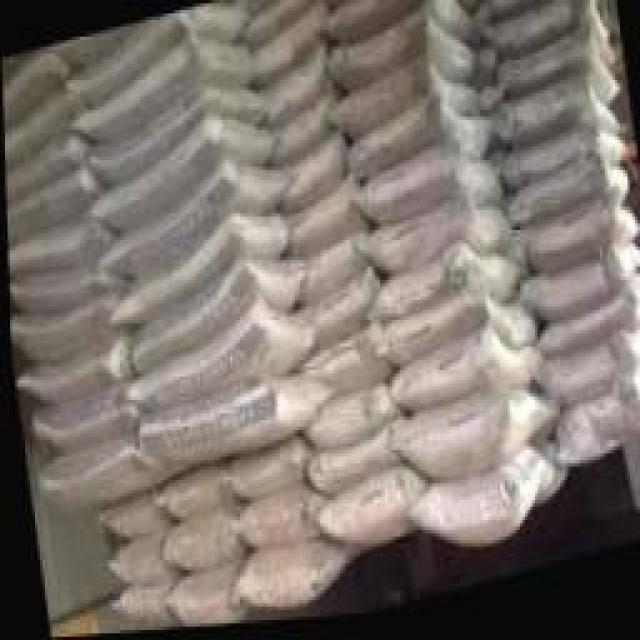gunny_bag: (106, 152, 298, 274), (126, 297, 318, 407), (99, 111, 273, 228), (77, 32, 252, 142), (114, 212, 284, 322), (147, 375, 327, 470), (398, 391, 559, 482), (348, 83, 497, 179), (334, 9, 478, 98), (396, 328, 540, 415), (377, 248, 523, 322), (361, 149, 501, 226), (497, 40, 624, 112), (411, 474, 528, 552), (499, 79, 624, 149), (521, 204, 635, 280), (49, 437, 171, 502), (318, 467, 413, 550), (540, 292, 640, 366), (561, 376, 640, 469), (513, 161, 626, 223), (6, 162, 97, 237), (19, 336, 127, 397), (305, 389, 399, 455), (32, 387, 138, 444), (546, 344, 637, 406), (240, 553, 332, 612), (166, 503, 242, 574), (7, 254, 103, 308), (234, 492, 319, 549)
